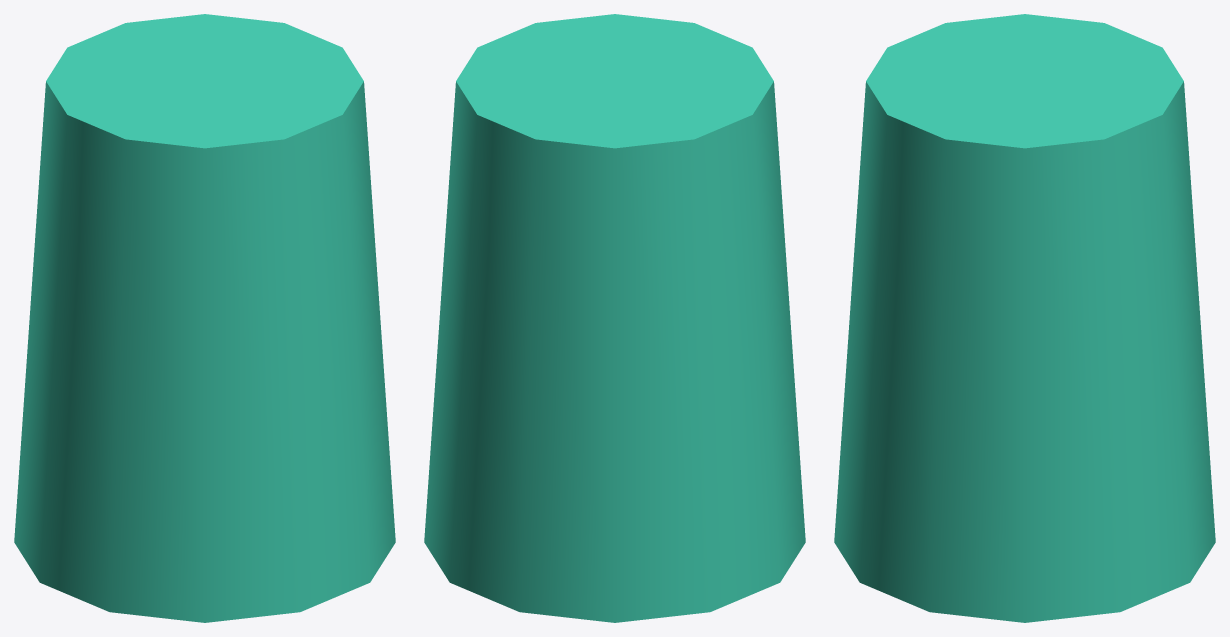
The model's file is sign_evacuation.glb.
3 renders of one model, left to right at view 1: azimuth 30°, elevation 25°; view 2: azimuth 150°, elevation 25°; view 3: azimuth 270°, elevation 25°, orthographic.
Parts seen in each view (by area): view 1: sign_evacuation-node; view 2: sign_evacuation-node; view 3: sign_evacuation-node.
Boxes of the visible parts, box(x1,y1,x2,y2) form: sign_evacuation-node: box(14, 14, 395, 622); sign_evacuation-node: box(424, 14, 805, 622); sign_evacuation-node: box(834, 14, 1215, 622).
Size of the model in its own units: 0.6 by 0.8 by 0.6.
